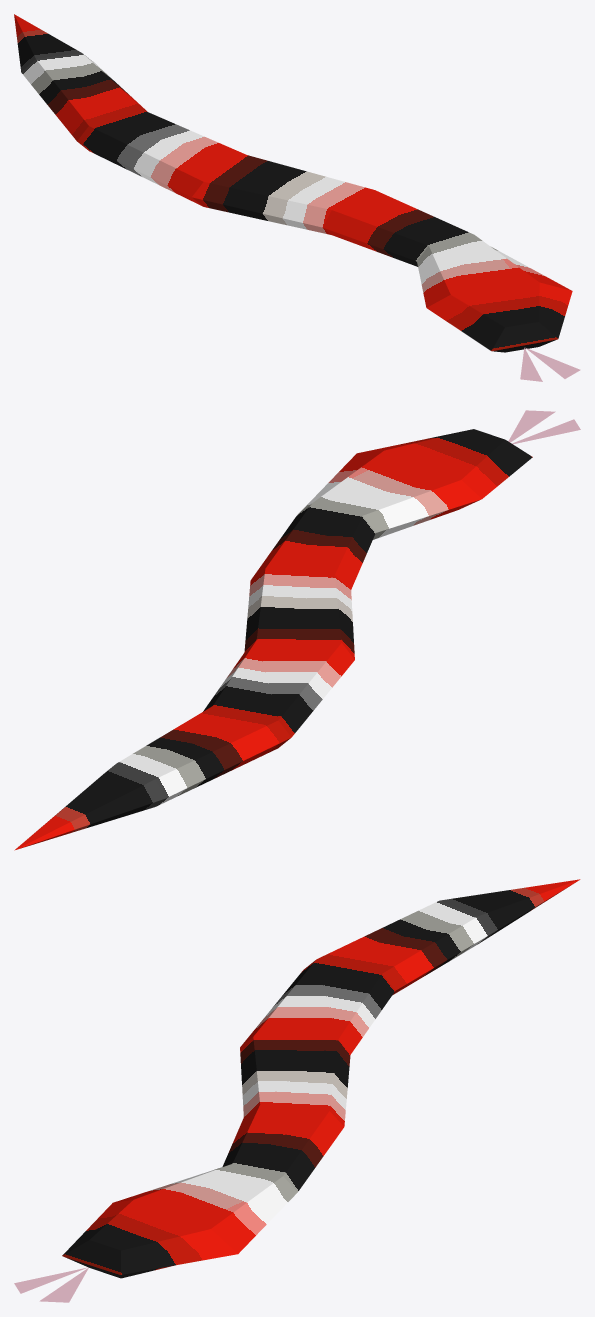
Rendered from desert_snake.obj.
The picture shows the model from 3 angles, top to bottom: view 1: azimuth 30°, elevation 25°; view 2: azimuth 150°, elevation 25°; view 3: azimuth 330°, elevation 25°; orthographic projection. The views are drawn at different scales.
Parts seen in each view (by area): view 1: body, tongue; view 2: body, tongue; view 3: body, tongue.
Boxes of the visible parts, left/top/right/bottom form: body: left=14, top=14, right=572, bottom=352; tongue: left=520, top=347, right=580, bottom=381; body: left=14, top=429, right=532, bottom=850; tongue: left=508, top=410, right=580, bottom=444; body: left=62, top=879, right=580, bottom=1278; tongue: left=14, top=1267, right=88, bottom=1302.
Size of the model in its own units: 5.69 by 0.6875 by 23.44.
Materials: 2 (2 with a texture image).
